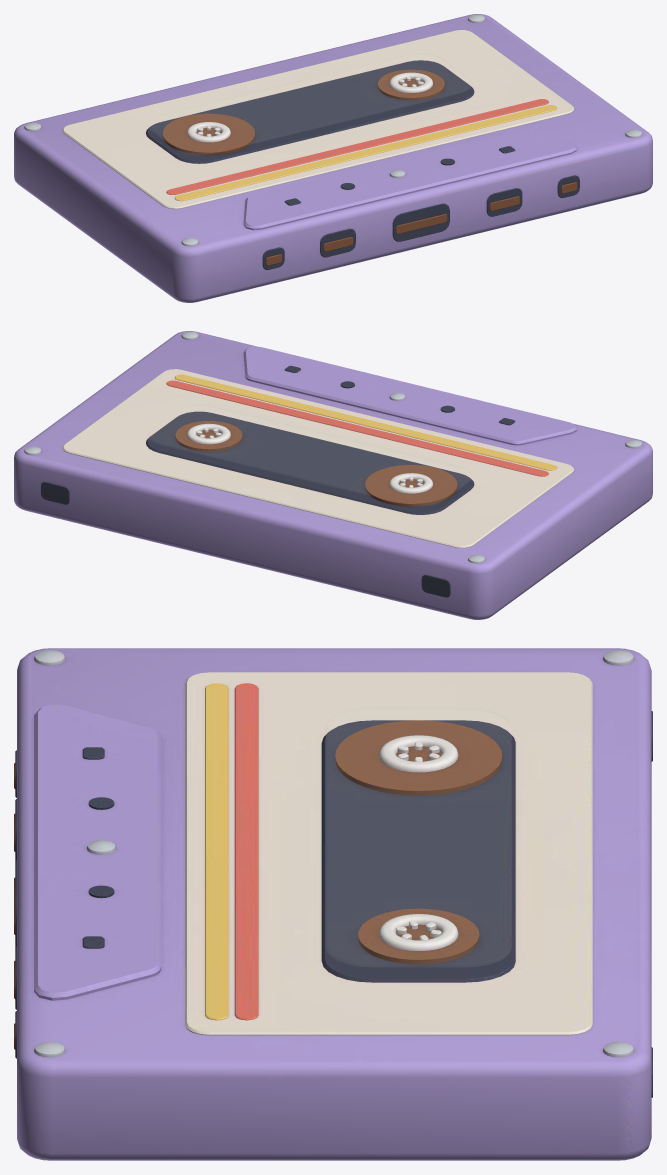
Rendered from cinta_casete.glb.
3 views of the same model, one above another, from view 1: azimuth 30°, elevation 25°; view 2: azimuth 150°, elevation 25°; view 3: azimuth 270°, elevation 25° (orthographic). The views are drawn at different scales.
Parts seen in each view (by area): view 1: cassette-tape_body; view 2: cassette-tape_body; view 3: cassette-tape_body.
Part boxes in pixels (<box>): cassette-tape_body: <box>14,14,652,302</box>; cassette-tape_body: <box>14,331,652,619</box>; cassette-tape_body: <box>14,648,652,1160</box>.
Bounding box in the file's own units: 0.1004 × 0.0132 × 0.0642.
Materials: 2 (1 with a texture image).
